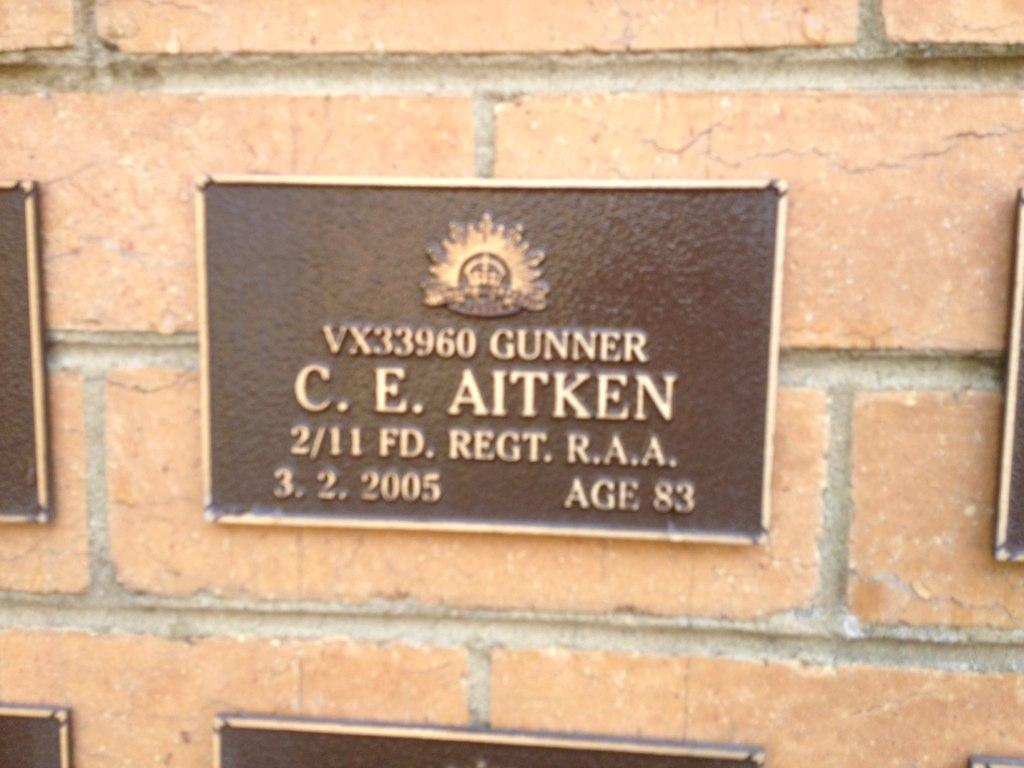plaque: (188, 167, 791, 549)
